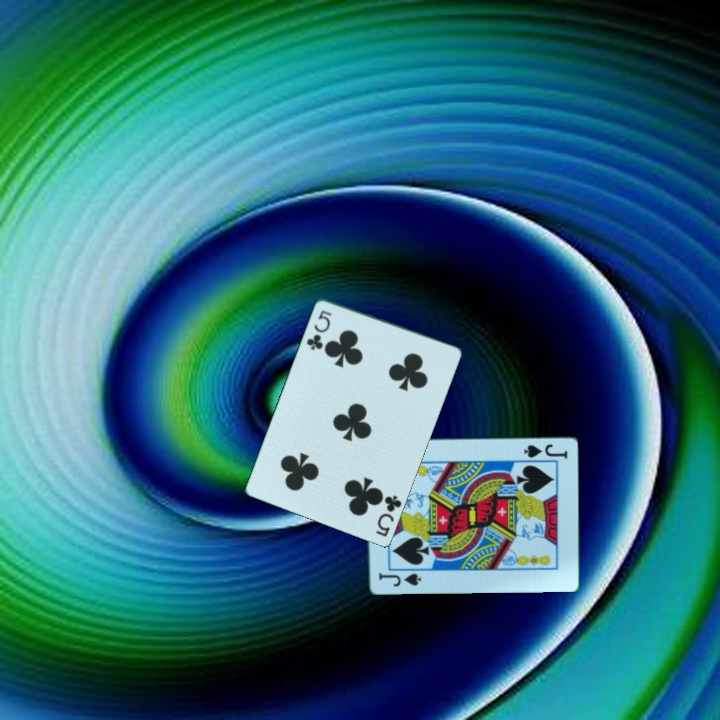5c: (372, 491, 404, 539), (303, 306, 335, 353)
Js: (521, 440, 570, 461), (375, 570, 424, 590)
